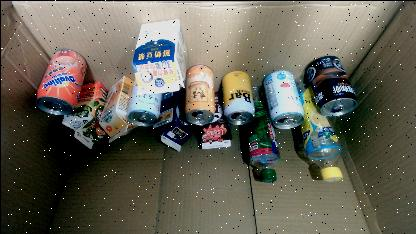Can: (34, 48, 86, 114), (304, 54, 356, 116), (261, 69, 303, 129), (219, 69, 254, 125), (126, 75, 162, 125), (184, 64, 214, 124)
Plastic Bottle: (292, 75, 341, 182), (245, 84, 280, 182)
